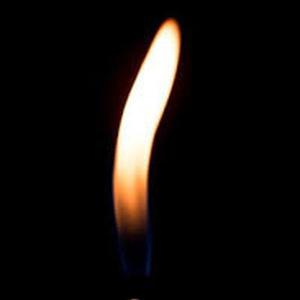fire: (106, 16, 183, 226)
